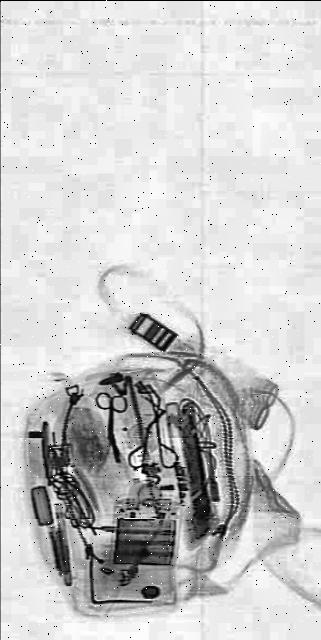Scissors: (95, 387, 129, 439)
